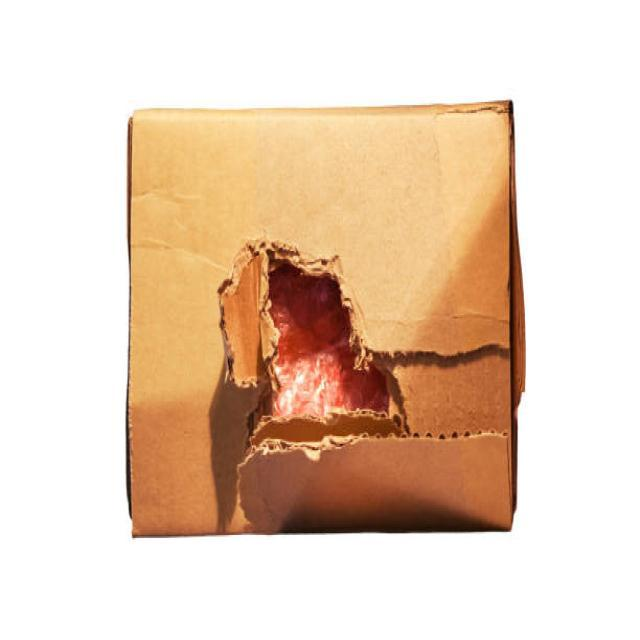box: (128, 106, 522, 536)
opened: (216, 235, 514, 473)
